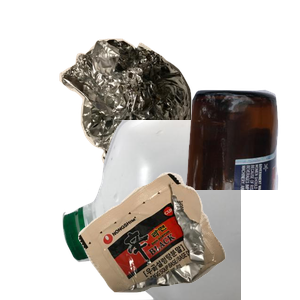glass: (87, 87, 300, 267)
metal: (57, 36, 241, 216)
plastic: (60, 120, 300, 300)
trash: (76, 170, 300, 300)
